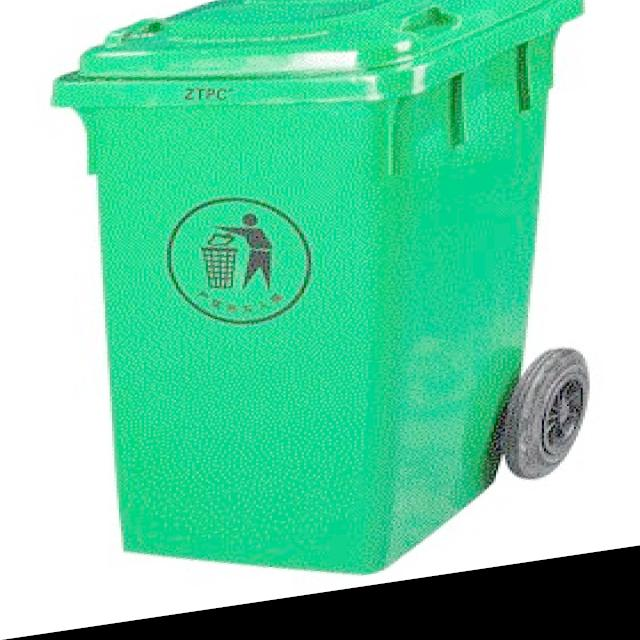garbage_bin: (48, 0, 585, 623)
